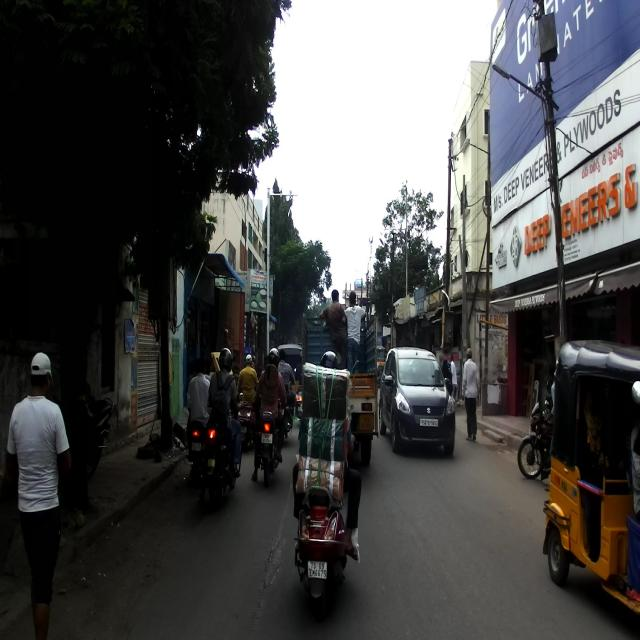Car_Maruti-Suzuki: (379, 346, 456, 455)
autorickshaw: (543, 338, 639, 630)
motorcycle_Hero: (516, 380, 553, 482), (253, 395, 286, 487)
motorcycle_Honda: (200, 388, 247, 512)
scooter: (291, 363, 363, 609)
